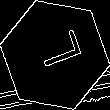L_W: (27, 32, 83, 78)
